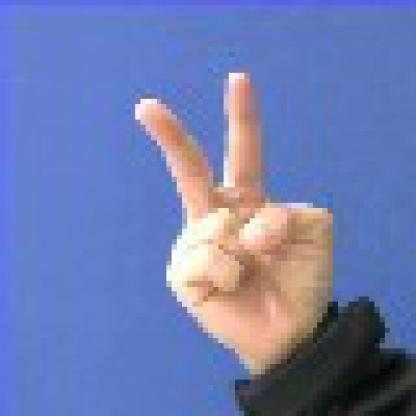two: (128, 58, 347, 369)
